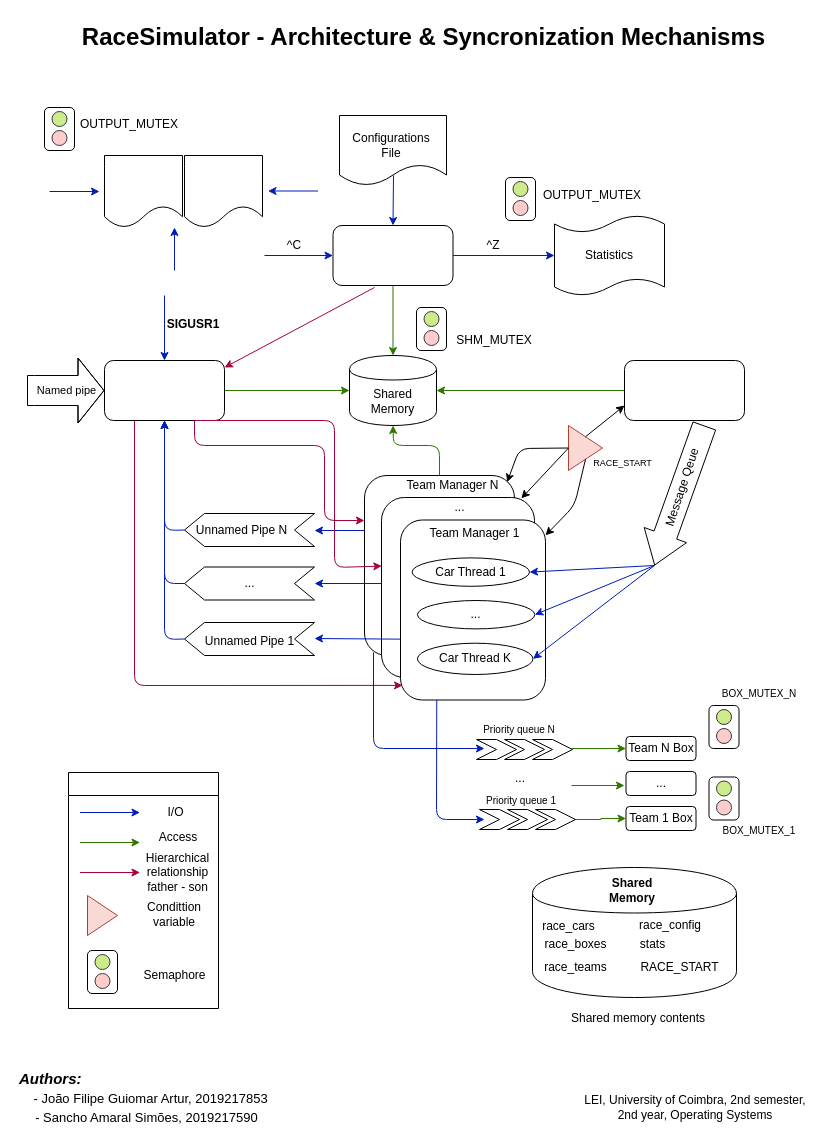
The diagram is 835 pixels wide and 1144 high, and some of its shapes have lost their labels. The box of each missing label's shape, as (x1, y1, x2, y2) in pixels:
DEBUG/ EXCEPTION output: (184, 154, 262, 228)
LOG File: (104, 154, 182, 228)
Malfunction Manager: (624, 360, 744, 420)
Race Manager: (104, 360, 224, 420)
Race Simulator: (332, 224, 453, 286)
Subtitle: (68, 772, 218, 1008)
